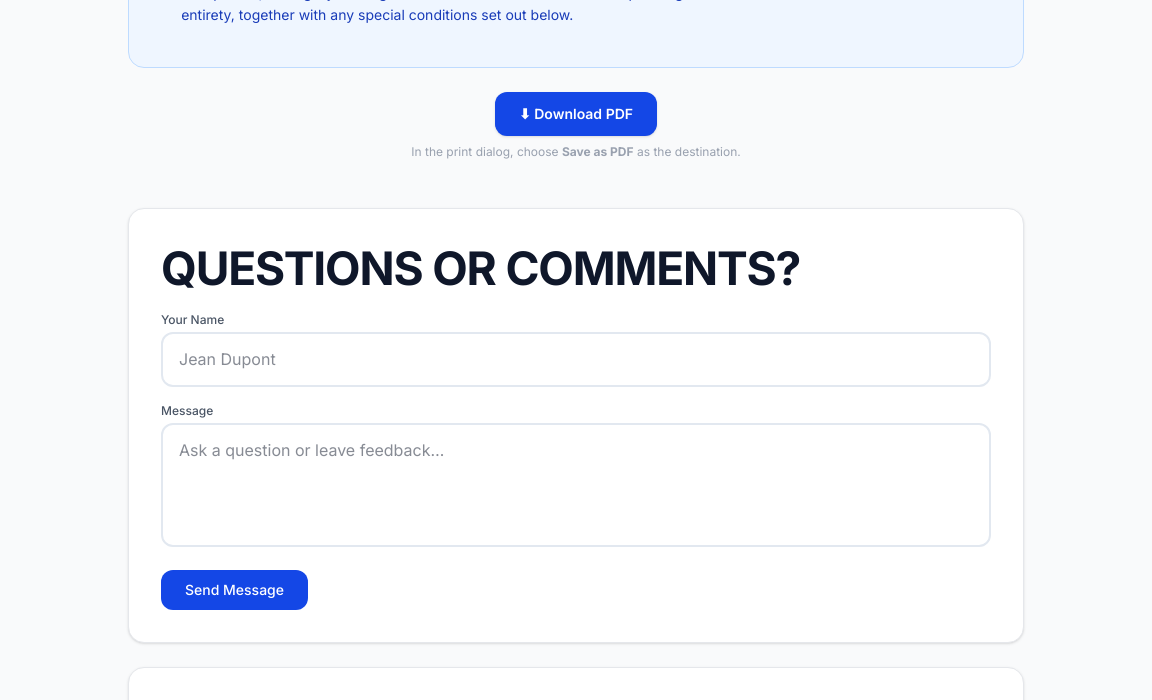
it: ProposalClient — comment form › shows a success message after comment is sent
(page scrolled)
Type "A Reviewer" into the field with placeholder "Jean Dupont" at {"x": 576, "y": 360}, box [161,332,991,387]
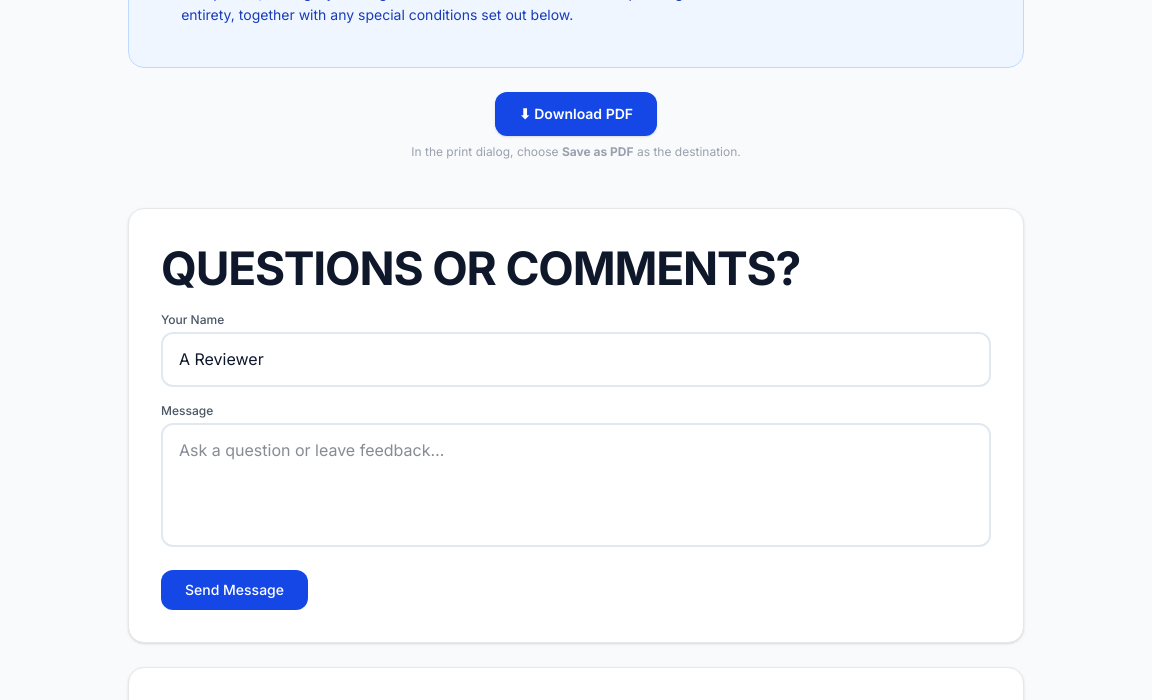
Type "Great proposal!" into the text box with placeholder "Ask a question or leave feedback…" at {"x": 576, "y": 485}, box [161,423,991,547]
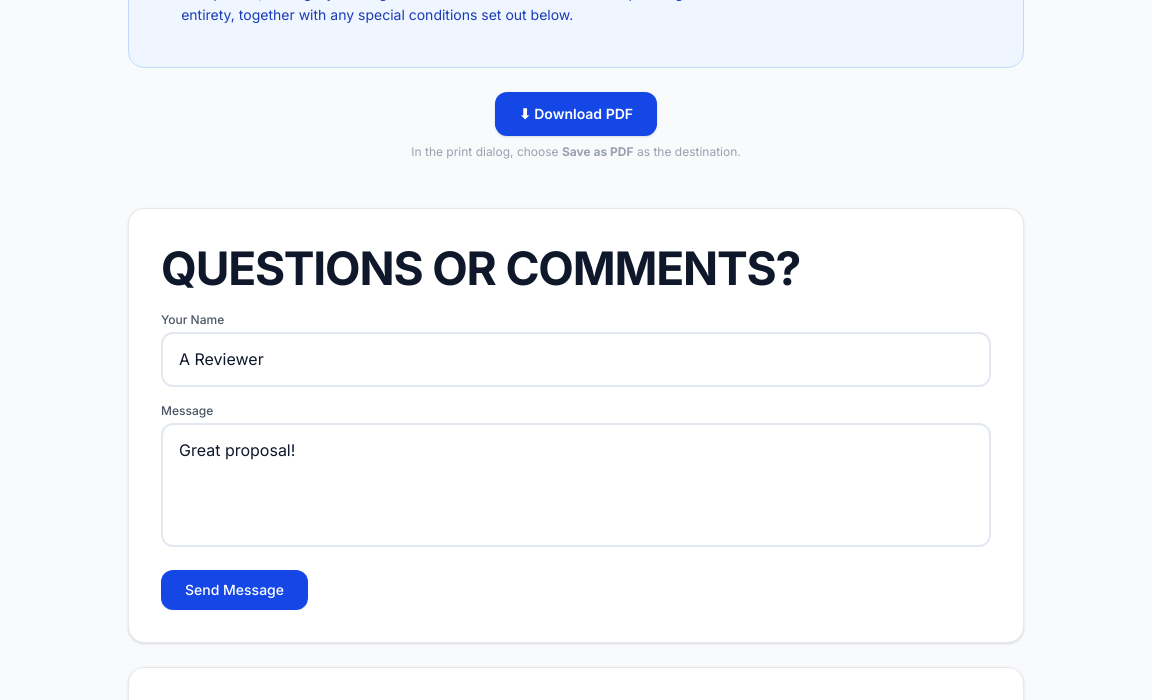
Click the button "Send Message" at {"x": 234, "y": 590}, box [161,570,308,610]
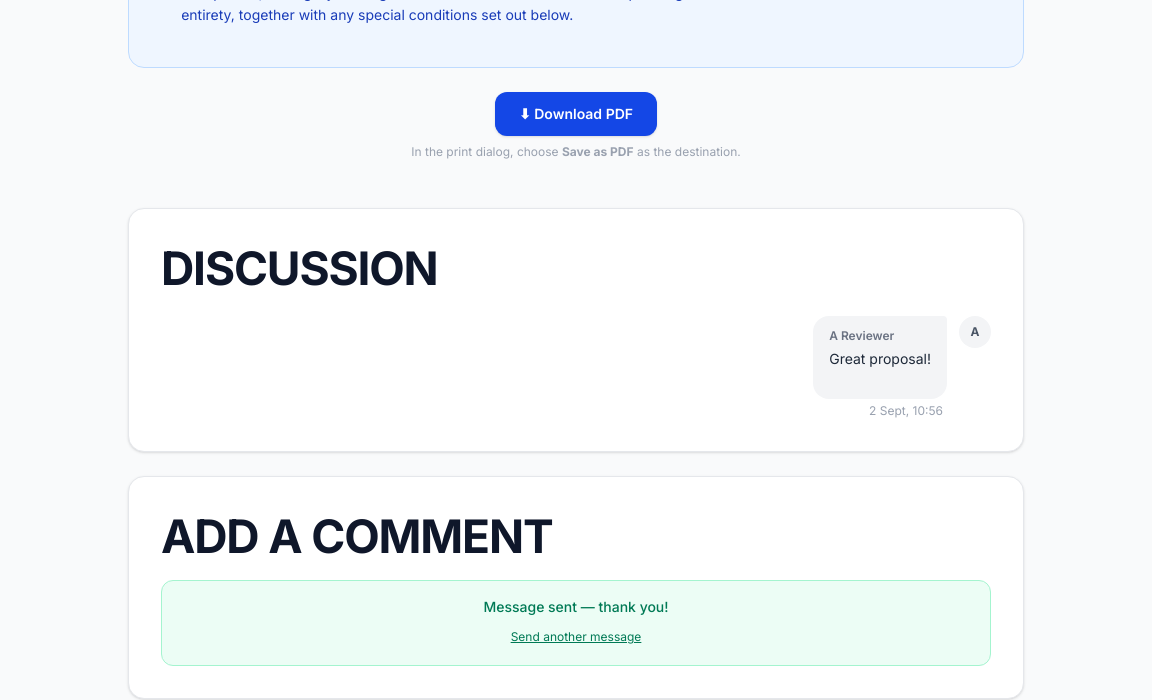
Expected: the text "Message sent — thank you!" is shown, [483,598,668,616]
